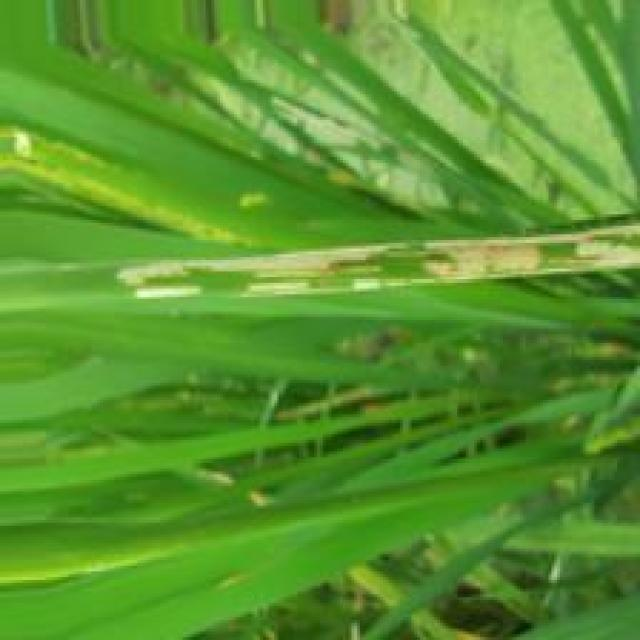Rice_Hispa: (107, 247, 403, 304), (400, 232, 640, 285)
